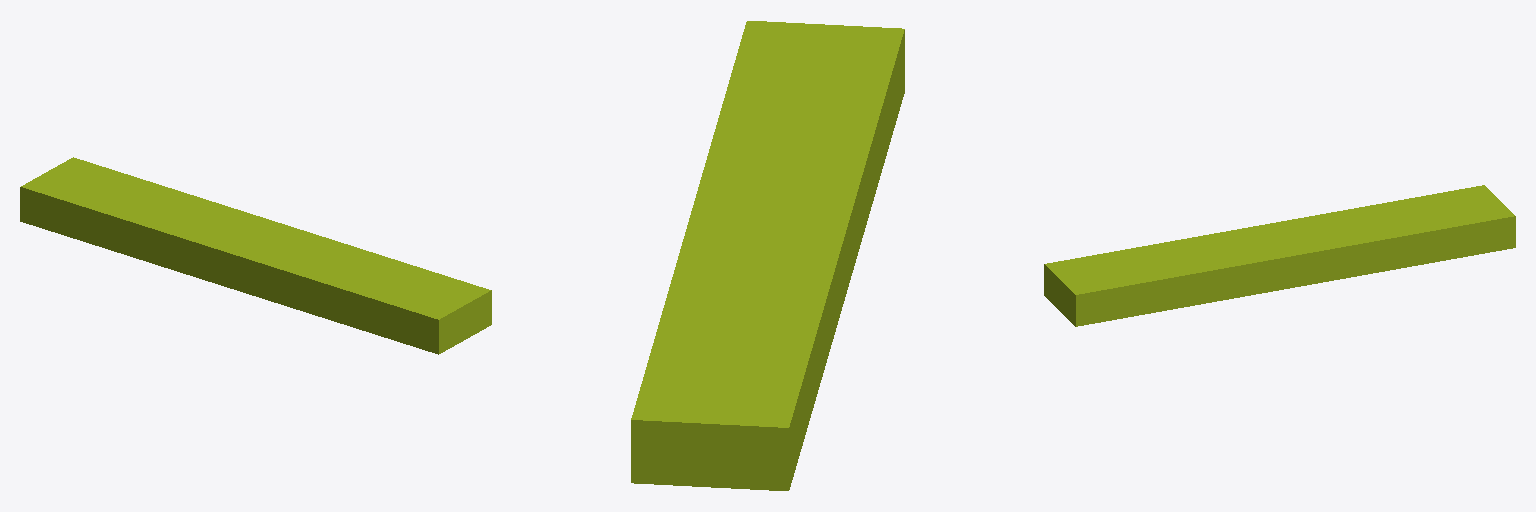
robot.urdf — Interference:
<?xml version="1.0"?>
<robot name="Interference">
  <link name="baseLink">
    <inertial>
      <origin xyz="0.0 0.0 0.0" rpy="0.0 0.0 0.0"/>
      <inertia ixx="0.0" ixy="0.0" ixz="0.0" iyy="0.0" iyz="0.0" izz="0.0"/>
      <mass value="0"/>
    </inertial>
    <visual>
      <origin xyz="0.0 0.0 0.0" rpy="0.0 0.0 -1.1690544745933933"/>
      <geometry>
        <box size="0.13599569764822425 0.022747560704924938 0.01"/>
      </geometry>
      <material name="color">
        <color rgba="0.640406598564459 0.7344116493029171 0.16407038401097895 1.0"/>
      </material>
    </visual>
  </link>
</robot>

--- Render facts (derived) ---
Views: 3 orthographic renders of the robot side by side, from view 1: azimuth 30°, elevation 25°; view 2: azimuth 150°, elevation 25°; view 3: azimuth 270°, elevation 25°.
Model Interference with 1 links and 0 joints (none), rooted at baseLink, posed every joint at zero.
Visible links, largest first — view 1: baseLink; view 2: baseLink; view 3: baseLink.
Link boxes in pixels (x1,y1,x2,y2): baseLink: (20, 157, 491, 354); baseLink: (631, 21, 904, 490); baseLink: (1044, 185, 1515, 326).
Size in the robot's own frame: 0.0741 by 0.1341 by 0.01 metres.
Geometry: primitives only (box / cylinder / sphere), no mesh files.